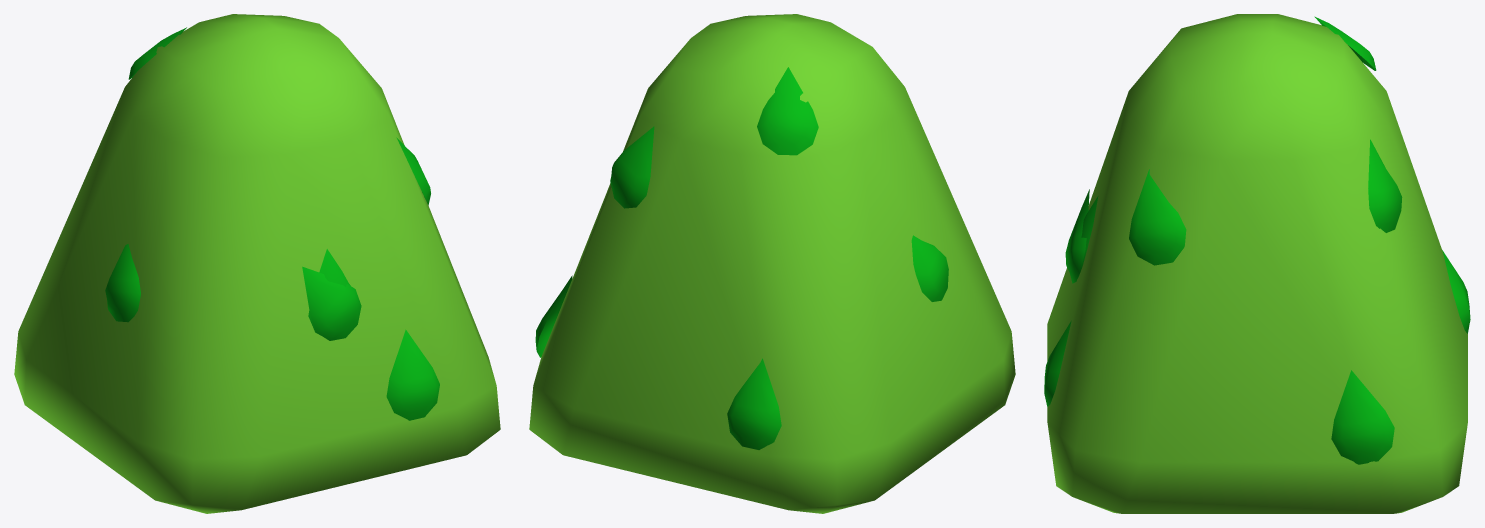
File: bush-conus.fbx
3 views of the same model, side by side, from view 1: azimuth 30°, elevation 25°; view 2: azimuth 150°, elevation 25°; view 3: azimuth 270°, elevation 25° (orthographic). The views are drawn at different scales.
Visible parts, largest first — view 1: bush-conus; view 2: bush-conus; view 3: bush-conus.
Part boxes in pixels (left/top/right/bottom): bush-conus: left=14, top=14, right=500, bottom=513; bush-conus: left=529, top=14, right=1015, bottom=513; bush-conus: left=1044, top=14, right=1470, bottom=513.
Size of the model in its own units: 1.33 by 1.46 by 1.33.
